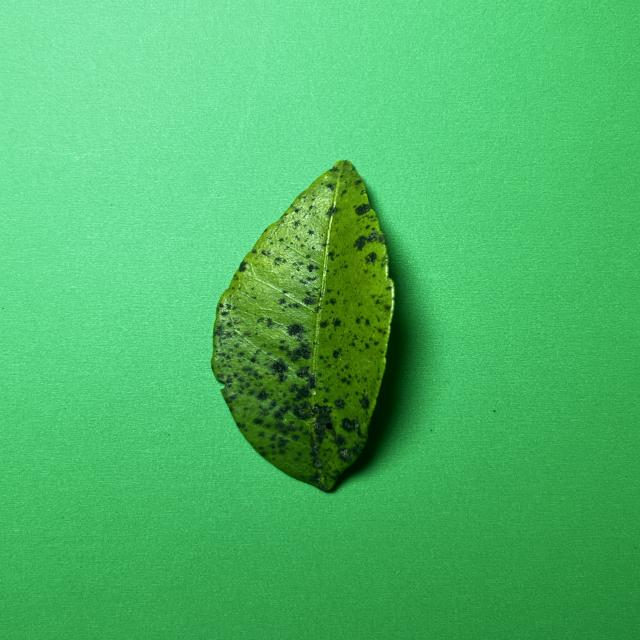sooty_mold: (211, 161, 394, 480)
